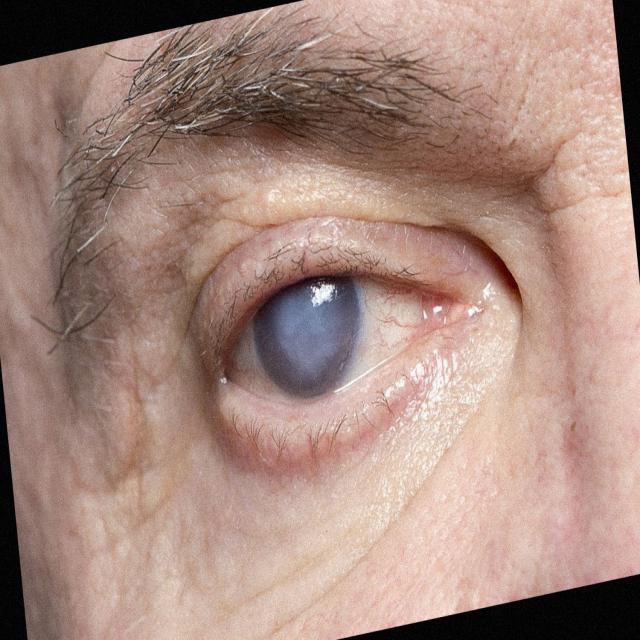Cataract: (225, 216, 395, 451)
